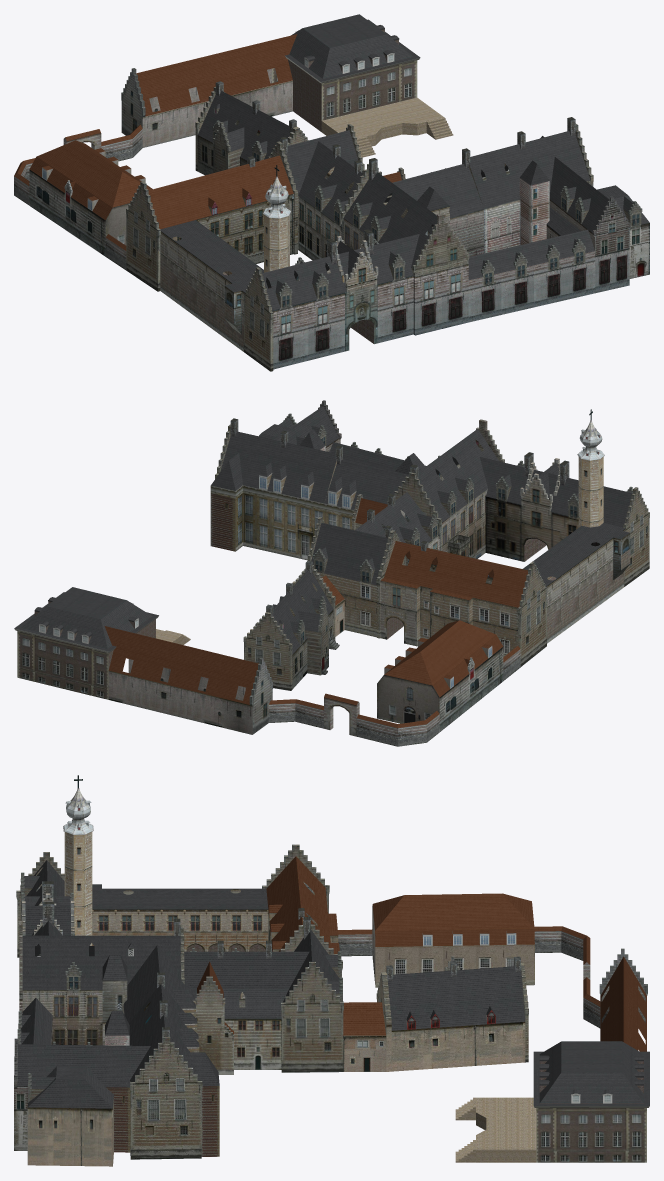
The model's file is house_obj.obj.
3 renders of one model, top to bottom at view 1: azimuth 30°, elevation 25°; view 2: azimuth 150°, elevation 25°; view 3: azimuth 270°, elevation 25°, orthographic. The views are drawn at different scales.
Visible parts, largest first — view 1: house222:polySurface1; view 2: house222:polySurface1; view 3: house222:polySurface1.
Boxes of the visible parts, x1,y1,x2,y2 form: house222:polySurface1: (14,14,649,371); house222:polySurface1: (14,400,649,746); house222:polySurface1: (14,775,649,1166).
Size of the model in its own units: 7231 by 3093 by 8961.
Materials: 1 (1 with a texture image).
